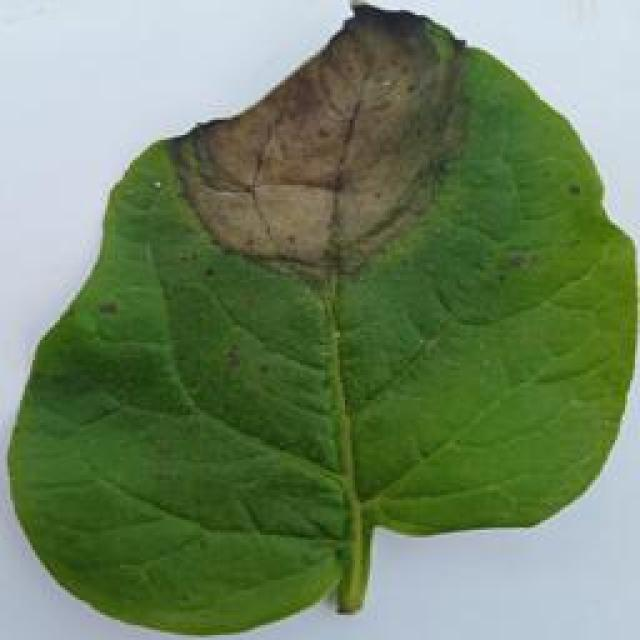Potato_Late_Blight: (11, 9, 620, 630)
